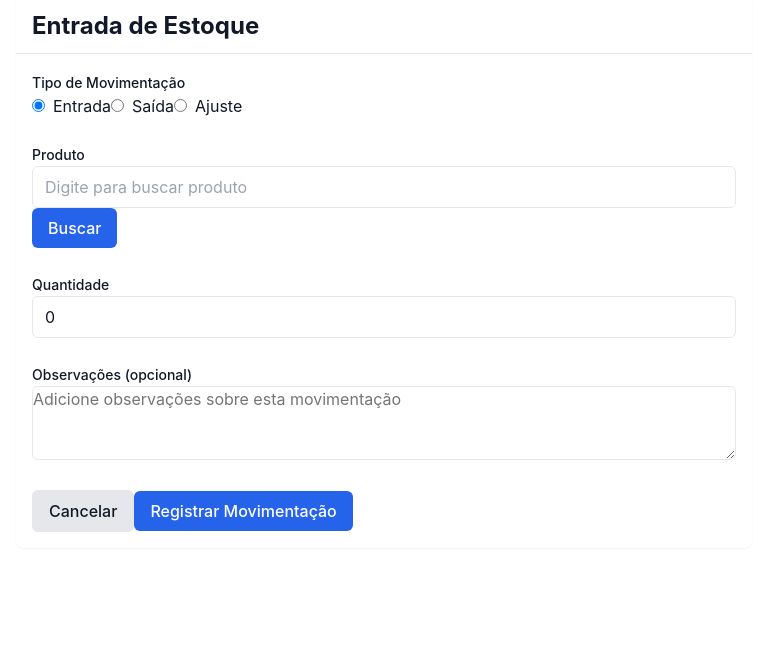
InventoryMovementView › Product Search › should show product lookup when products are found
Type "Product" into the field labelled "Produto" at (384, 187), box [32, 166, 736, 208]
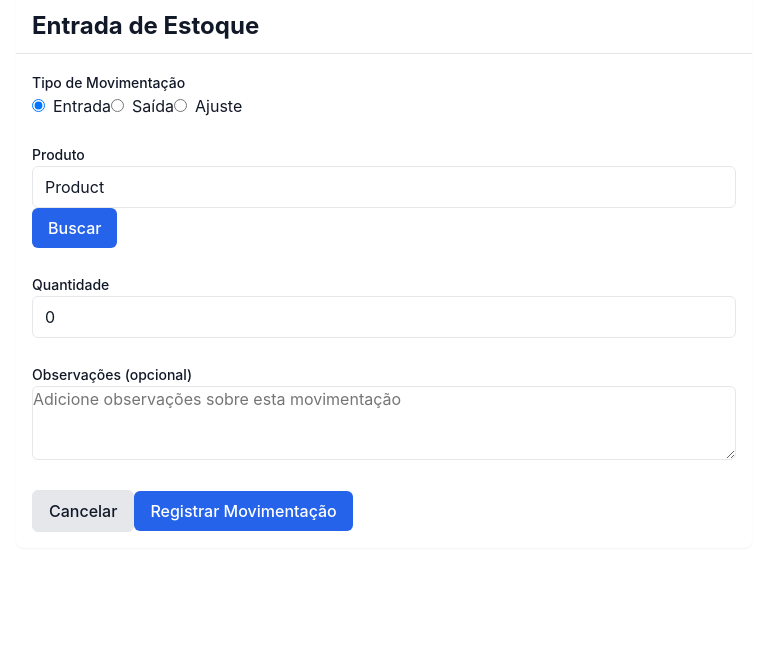
Click the button "Buscar" at (75, 228), box [32, 208, 117, 248]
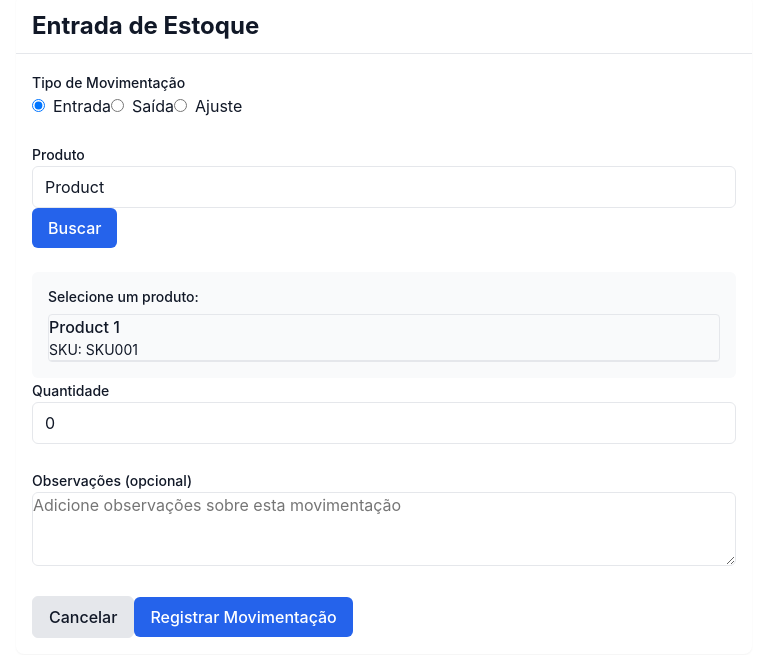
Expected: the element showing "Selecione um produto: Product 1 SKU: SKU001" is shown, [32, 272, 736, 378]
Expected: the text "Product 1" is shown, [49, 316, 120, 336]
Expected: the text "SKU001" is shown, [49, 340, 138, 358]
